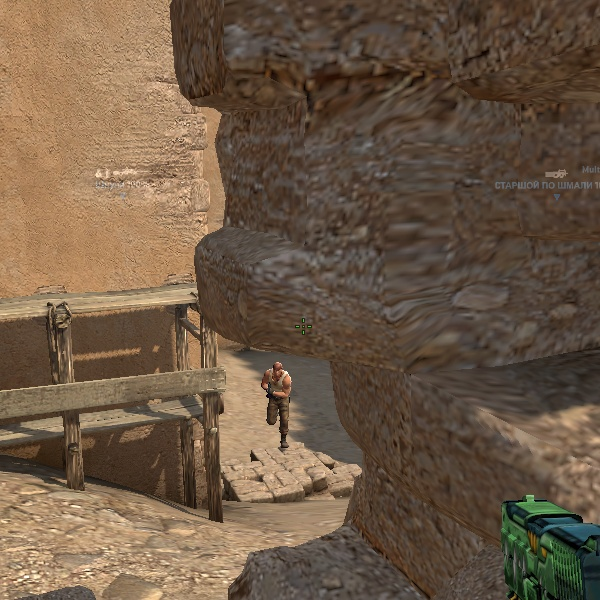t_body: (259, 360, 297, 446)
t_head: (272, 361, 284, 381)
